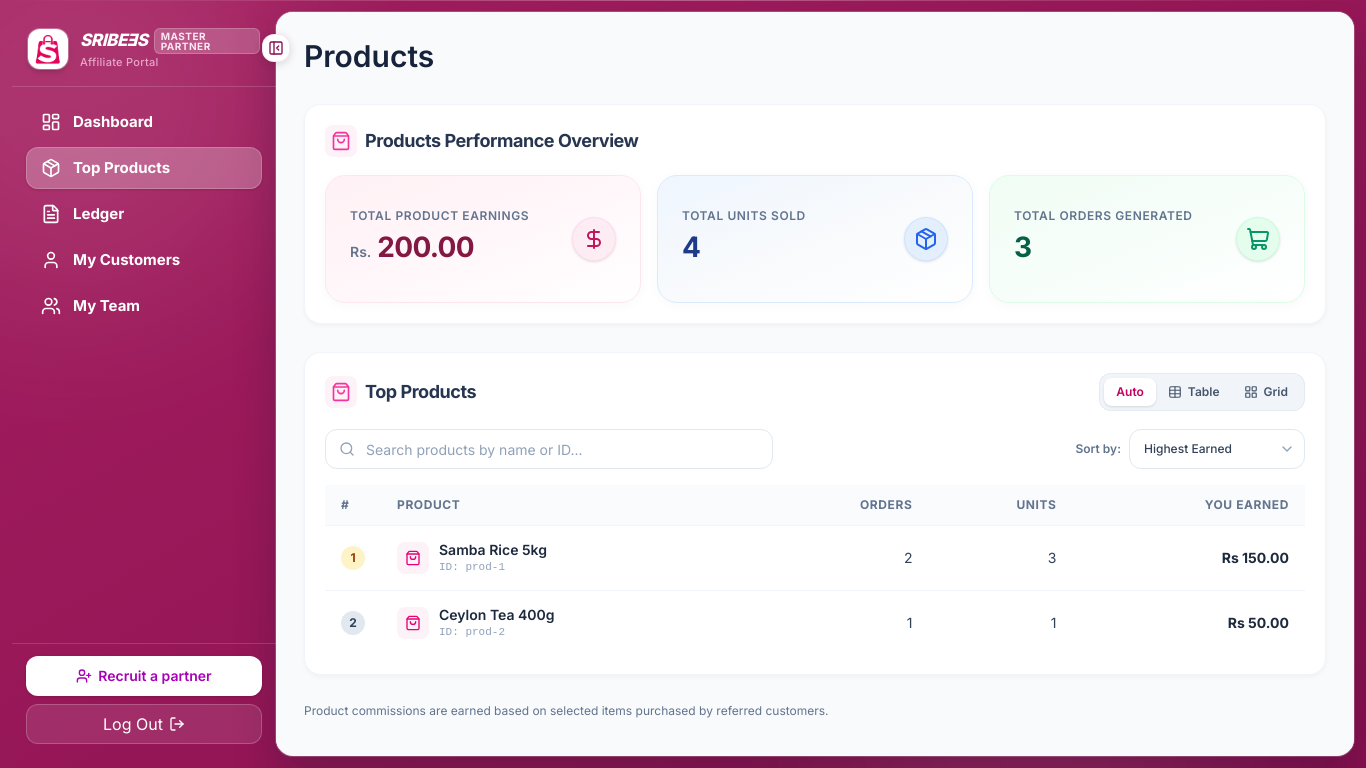
Scenario: Products Page › switches to grid view when toggled
Expected: the text "Samba Rice 5kg" is shown, x1=439 y1=540 x2=547 y2=560
Click the button "Grid".
click(1266, 392)  # box x1=1232 y1=378 x2=1300 y2=406
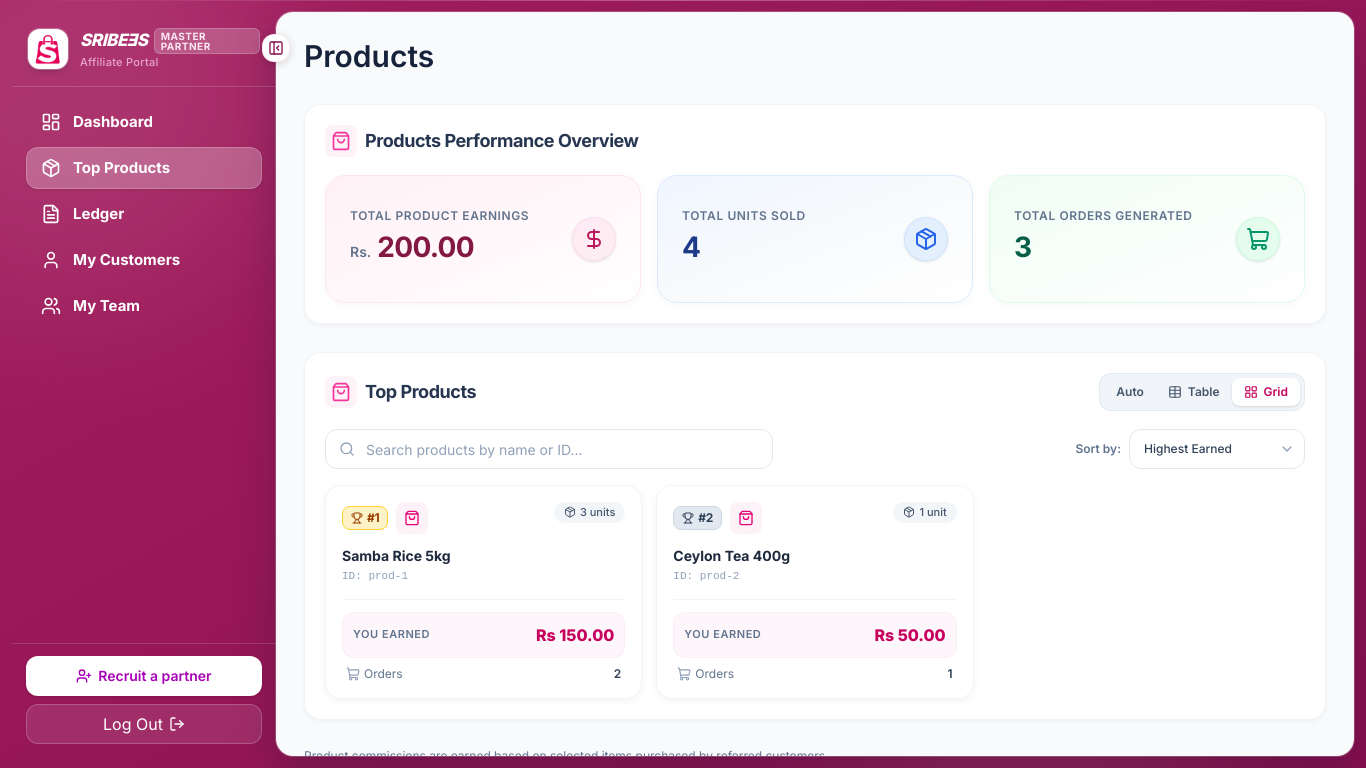
Expected: the text "#1" is shown, x1=342 y1=506 x2=388 y2=530
Expected: the text "#2" is shown, x1=673 y1=506 x2=722 y2=530
Expected: the text "3 units" is shown, x1=554 y1=502 x2=625 y2=522
